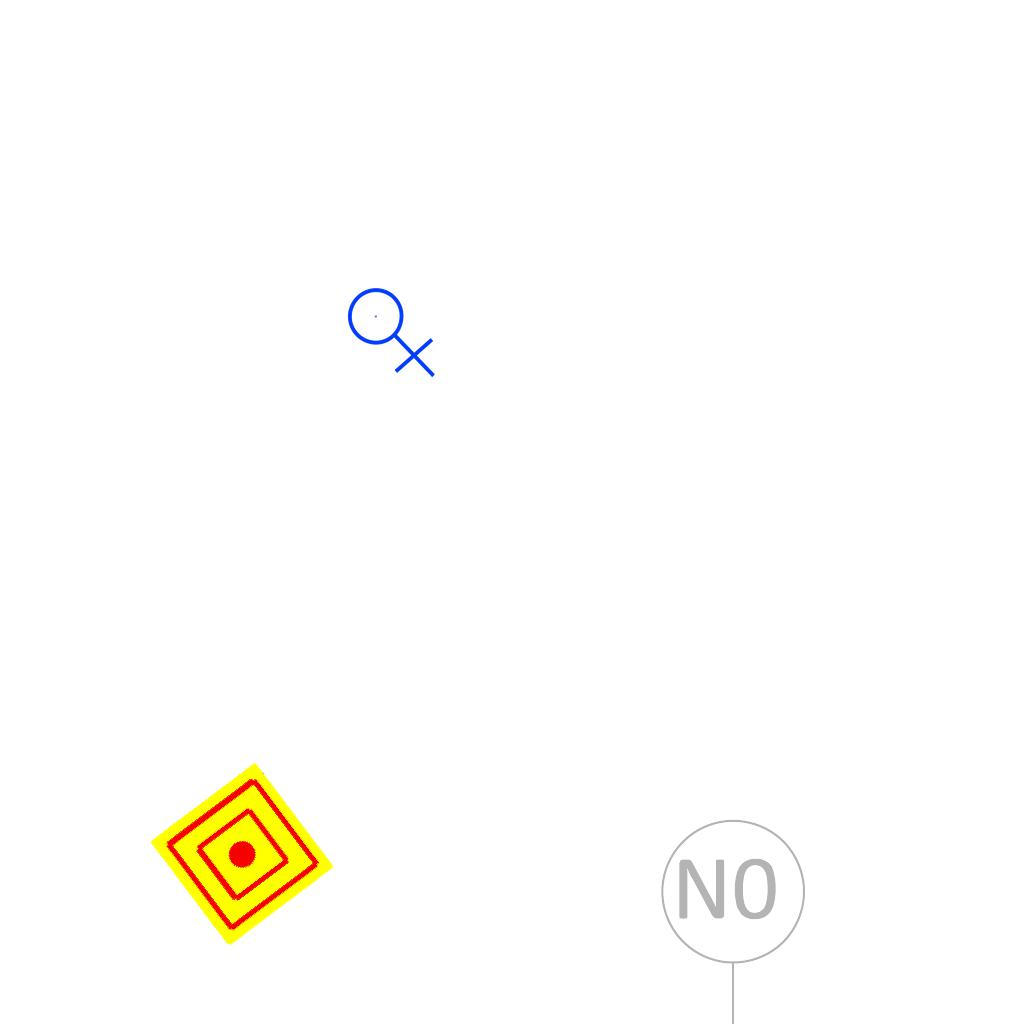Elektroanschluss_allgemein_230V_Geraeteanschlussdose_230V: (346, 279, 440, 378)
NAM-Nichtautomatischer_Melder: (149, 761, 335, 947)
